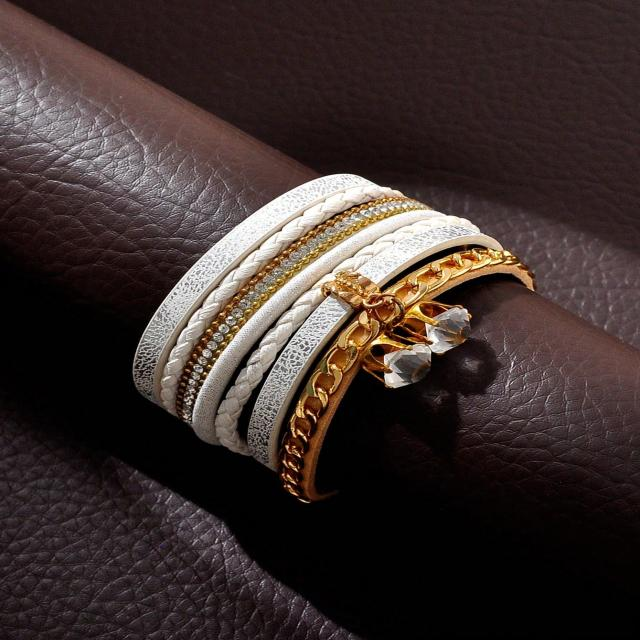bracelet: (64, 92, 552, 542)
